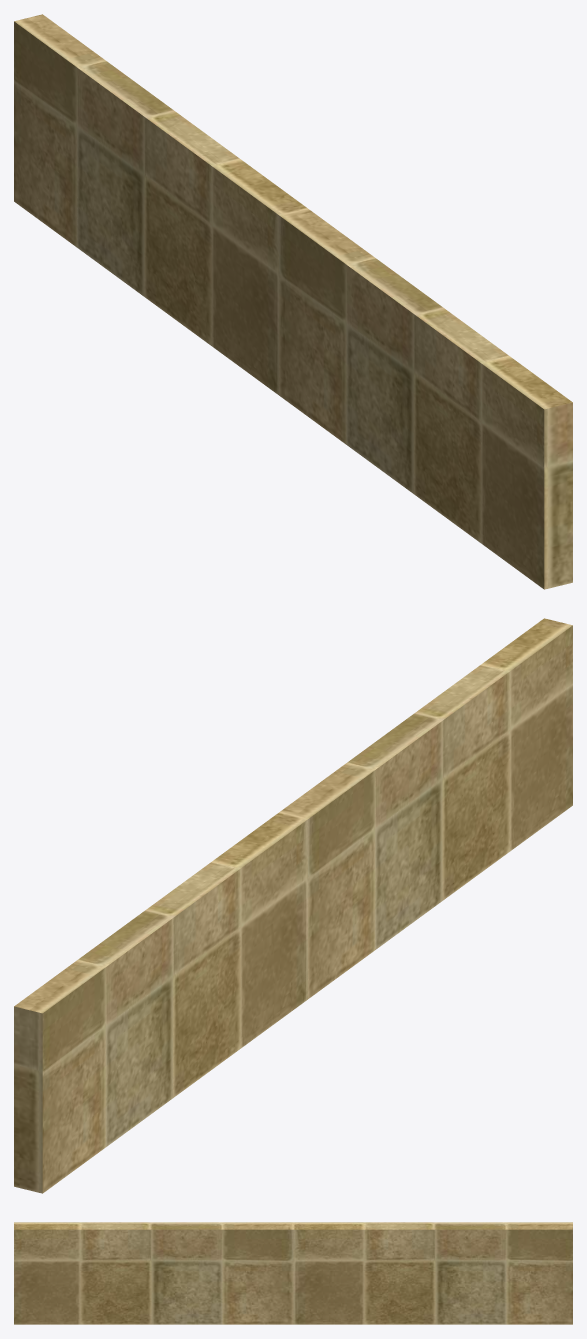
File: upWall1.dae
The picture shows the model from 3 angles, top to bottom: view 1: azimuth 30°, elevation 25°; view 2: azimuth 150°, elevation 25°; view 3: azimuth 270°, elevation 25°; orthographic projection. The views are drawn at different scales.
Parts seen in each view (by area): view 1: SketchUp; view 2: SketchUp; view 3: SketchUp.
Boxes of the visible parts, x1=… form: SketchUp: x1=14, y1=14, x2=572, y2=589; SketchUp: x1=14, y1=618, x2=572, y2=1193; SketchUp: x1=14, y1=1222, x2=572, y2=1324.
Bounding box in the file's own units: 1.97 × 62.99 × 11.81.
1 material, 1 textured.
